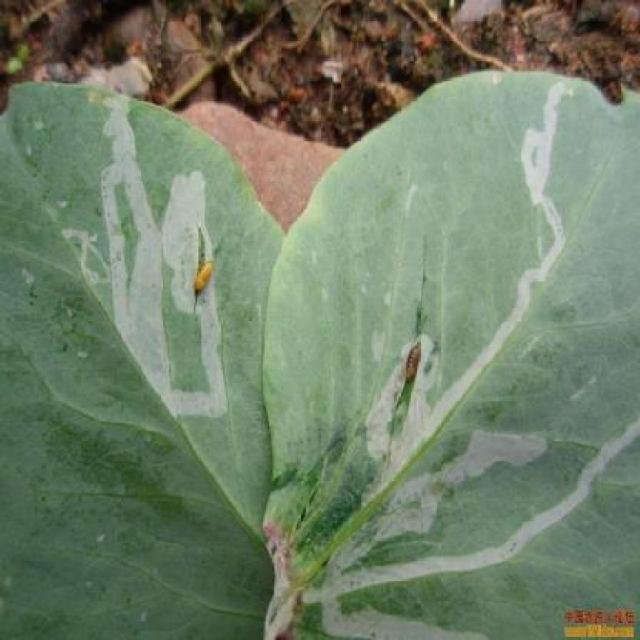whorl-maggot: (189, 252, 220, 308), (403, 325, 423, 392)
